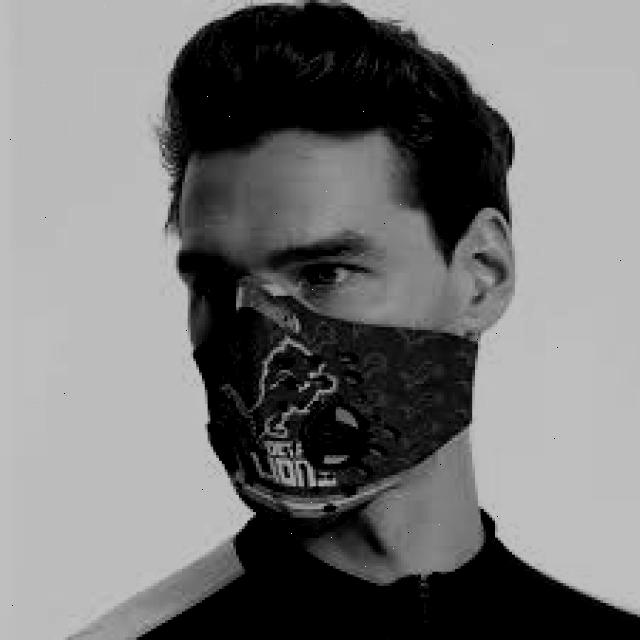fake: (179, 286, 482, 580)
real: (175, 126, 456, 555)
